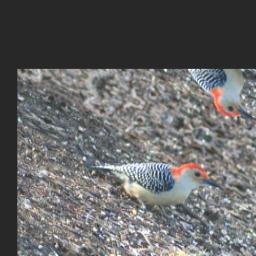Woodpecker: (83, 123, 227, 242)
